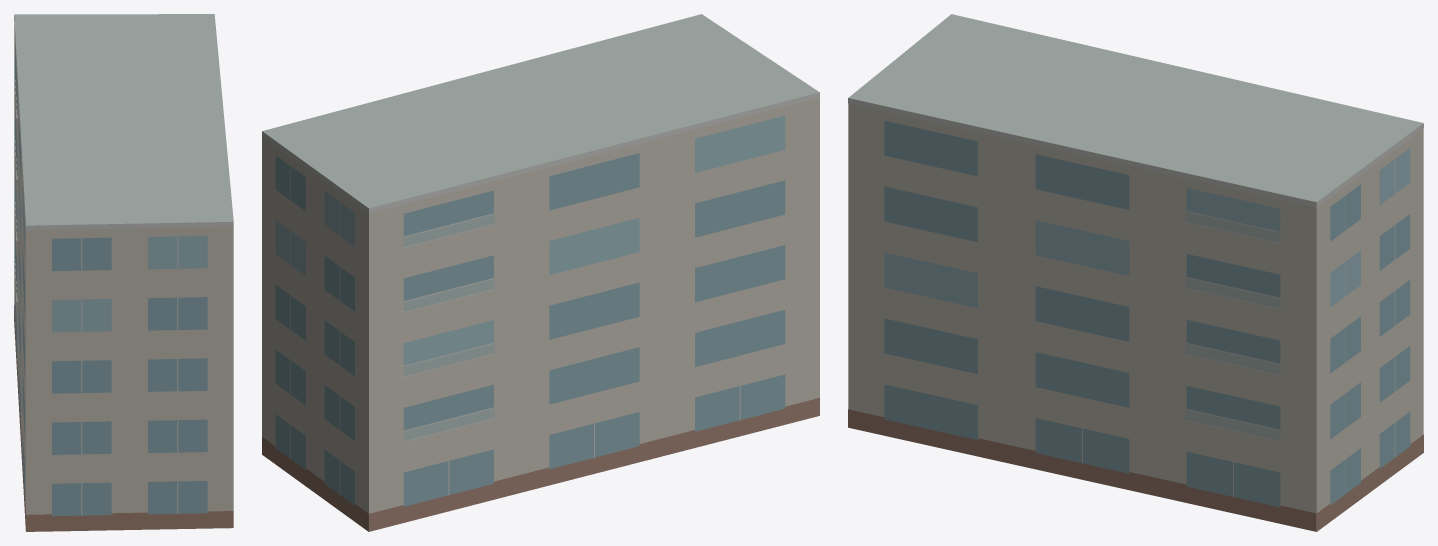
File: survey-upis-32992840.glb
The picture shows the model from 3 angles, left to right: view 1: azimuth 30°, elevation 25°; view 2: azimuth 150°, elevation 25°; view 3: azimuth 270°, elevation 25°; orthographic projection. The views are drawn at different scales.
Parts seen in each view (by area): view 1: survey-upis-32992840.tmp; view 2: survey-upis-32992840.tmp; view 3: survey-upis-32992840.tmp.
Boxes of the visible parts, x1,y1,x2,y2 form: survey-upis-32992840.tmp: [14, 14, 233, 531]; survey-upis-32992840.tmp: [262, 14, 819, 531]; survey-upis-32992840.tmp: [848, 14, 1423, 531].
Size of the model in its own units: 18.38 by 15 by 23.74.
